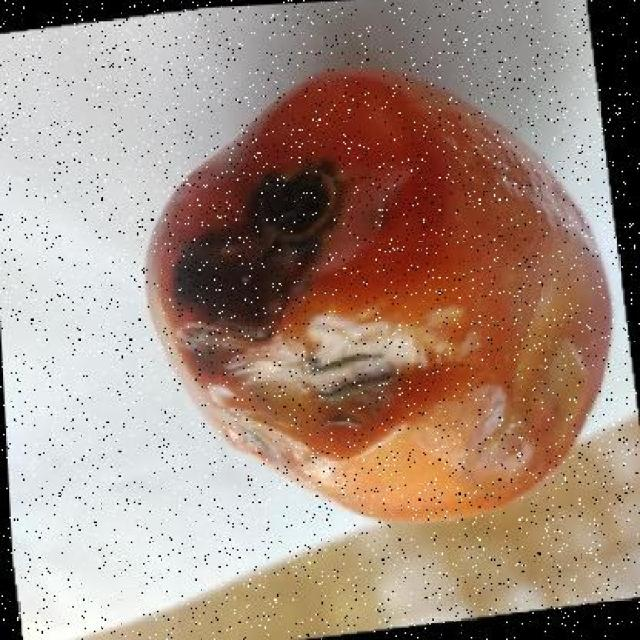overripe tomato: (124, 53, 612, 531)
